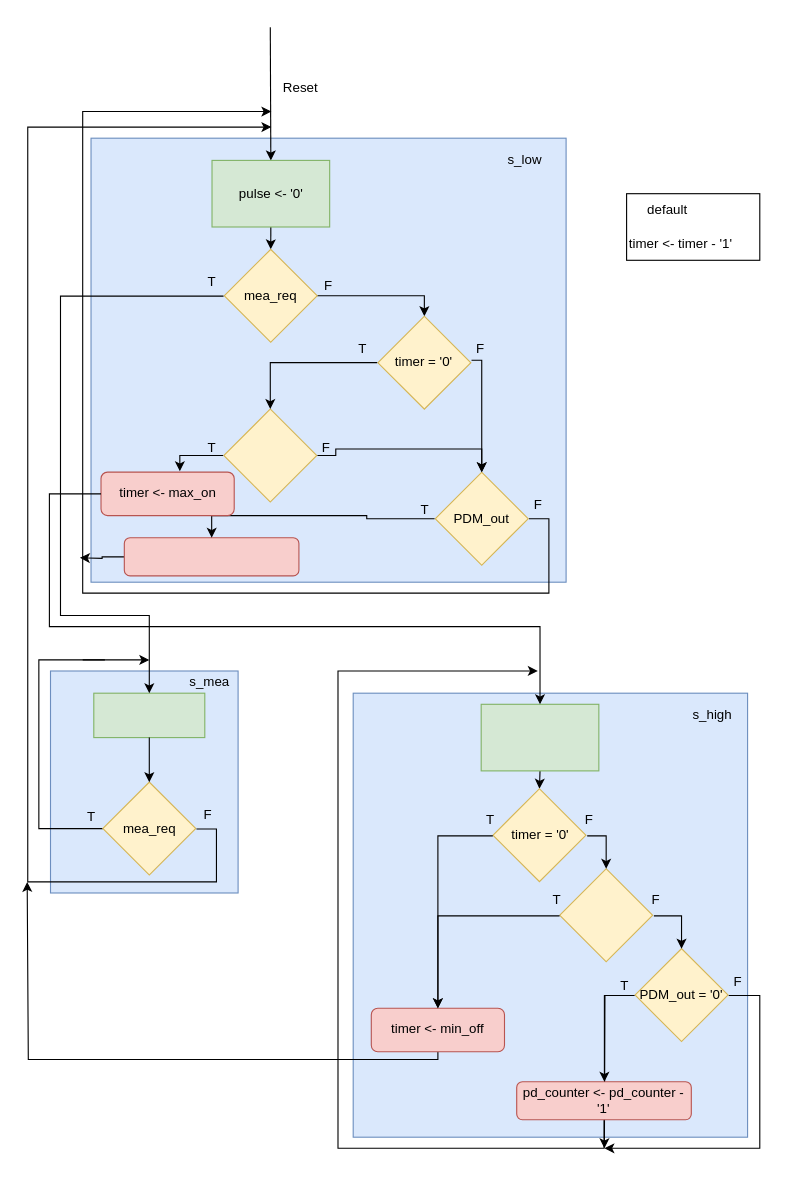
Image size: 788x1177. Some labels were removed from this diagram. The shapes that lost their labels are listed below. From the top down, each one's centre as x and y in pixels, then its label:
the point at 269,455: pd_counter > min_on
the point at 211,556: pd_counter <- pd_counter + '1'
the point at 149,715: mea_ack <- '1'
the point at 539,737: pulse <- '1'
the point at 605,914: pd_counter = '0'
